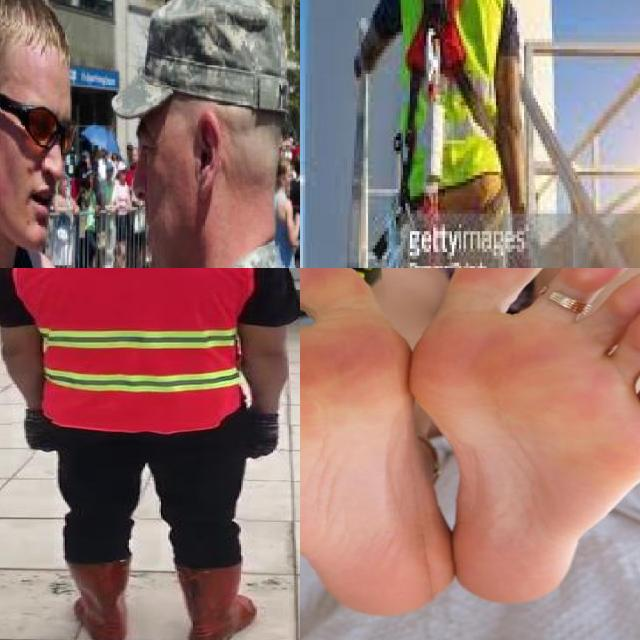Barefoots: (402, 268, 640, 609), (300, 268, 460, 623)
Harness: (406, 0, 497, 136)
boots: (175, 563, 257, 640), (58, 556, 131, 640)
face_nomask: (7, 104, 79, 233), (123, 131, 177, 268)
glasses: (12, 99, 74, 155)
hand_glove: (244, 411, 278, 458), (24, 411, 56, 452)
head_nohelmet: (113, 0, 292, 121), (0, 0, 70, 67)
person: (0, 268, 300, 640), (107, 0, 300, 268), (0, 0, 96, 268)
vest: (11, 268, 248, 433)
